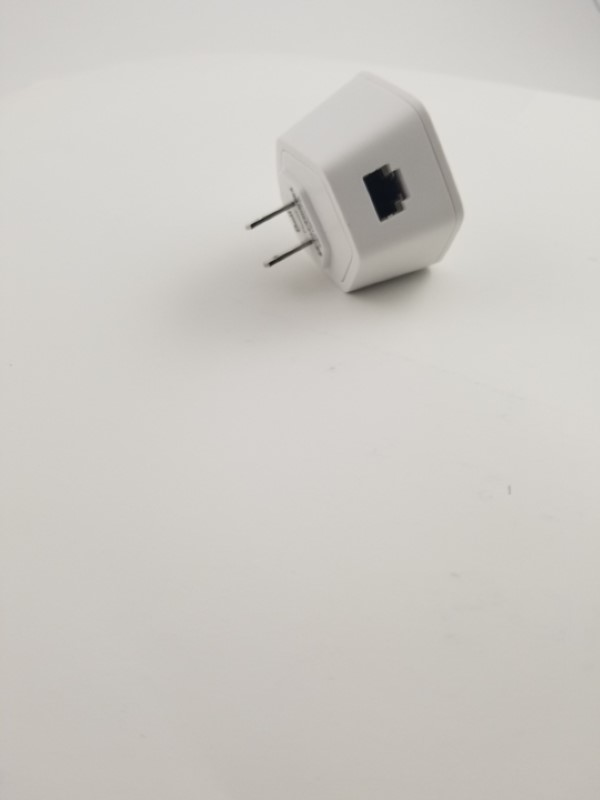pod: (241, 58, 471, 303)
